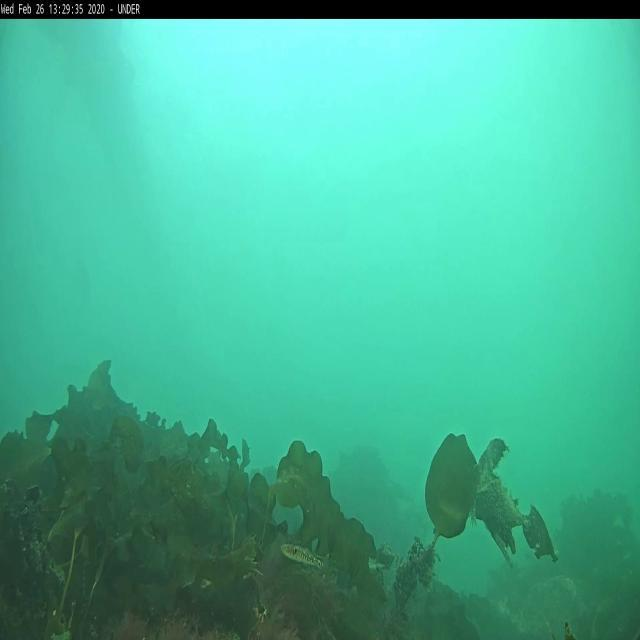fish: (282, 544, 326, 568)
